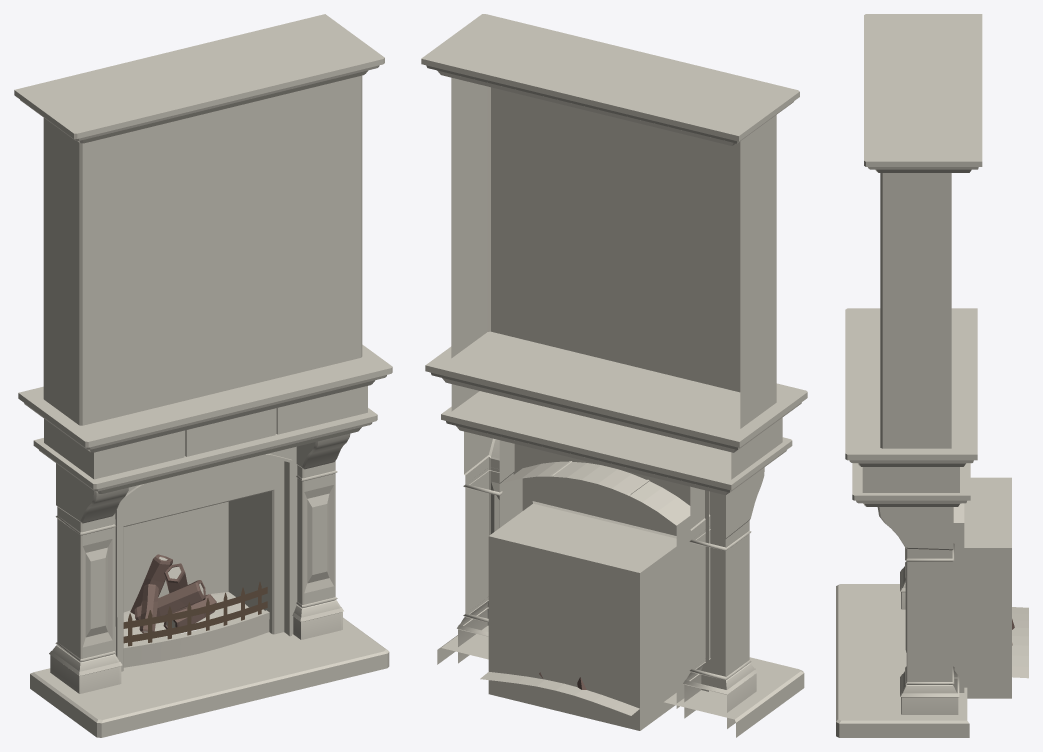
File: Fireplace.fbx
3 renders of one model, left to right at view 1: azimuth 30°, elevation 25°; view 2: azimuth 150°, elevation 25°; view 3: azimuth 270°, elevation 25°, orthographic. The views are drawn at different scales.
Parts seen in each view (by area): view 1: Fireplace; view 2: Fireplace; view 3: Fireplace.
Boxes of the visible parts, bbox=[...] form: Fireplace: bbox=[14, 14, 392, 737]; Fireplace: bbox=[421, 14, 807, 737]; Fireplace: bbox=[836, 14, 1028, 737].
Size of the model in its own units: 231 by 423 by 127.
